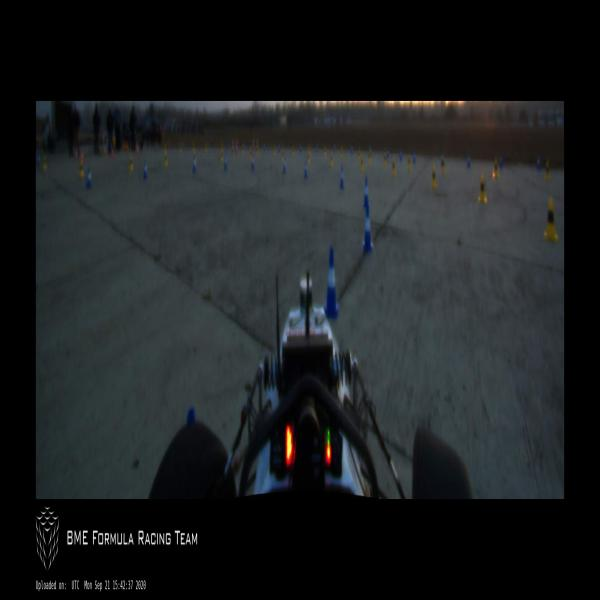blue_cone: (324, 246, 339, 320), (362, 206, 374, 250), (362, 176, 370, 208), (339, 166, 345, 189), (86, 167, 92, 188), (143, 160, 148, 180), (192, 154, 196, 174), (304, 160, 308, 178), (224, 154, 228, 171), (282, 158, 286, 174), (251, 154, 255, 170), (536, 155, 540, 171), (37, 152, 41, 167), (467, 153, 471, 167), (440, 152, 443, 167), (500, 155, 503, 169), (413, 150, 416, 164), (386, 147, 389, 159), (400, 148, 402, 161), (350, 144, 352, 154), (333, 143, 335, 153), (316, 143, 318, 153), (300, 143, 302, 153), (278, 144, 280, 153), (370, 144, 371, 156)
large_orange_cone: (231, 141, 234, 153), (235, 141, 238, 153)
orange_cone: (74, 149, 78, 161), (103, 146, 107, 157), (80, 152, 84, 162), (111, 149, 114, 159), (136, 144, 138, 157)
yellow_cone: (544, 197, 558, 243), (479, 174, 487, 204), (431, 164, 437, 189), (545, 160, 551, 180), (79, 161, 84, 179), (129, 154, 134, 172), (330, 151, 334, 169), (392, 158, 396, 176), (494, 160, 498, 178), (164, 150, 168, 167), (442, 157, 446, 173), (220, 149, 224, 163), (43, 156, 47, 170), (408, 154, 411, 170), (307, 151, 310, 166), (368, 151, 371, 163), (340, 147, 343, 159), (308, 145, 311, 156), (361, 157, 363, 172), (358, 147, 360, 162), (241, 144, 244, 154), (164, 144, 167, 154), (282, 149, 284, 163), (256, 146, 259, 155), (179, 143, 182, 152), (250, 148, 252, 161), (384, 153, 386, 166), (324, 146, 326, 158), (292, 146, 294, 156), (273, 146, 275, 156), (205, 142, 207, 152), (193, 143, 194, 152)
